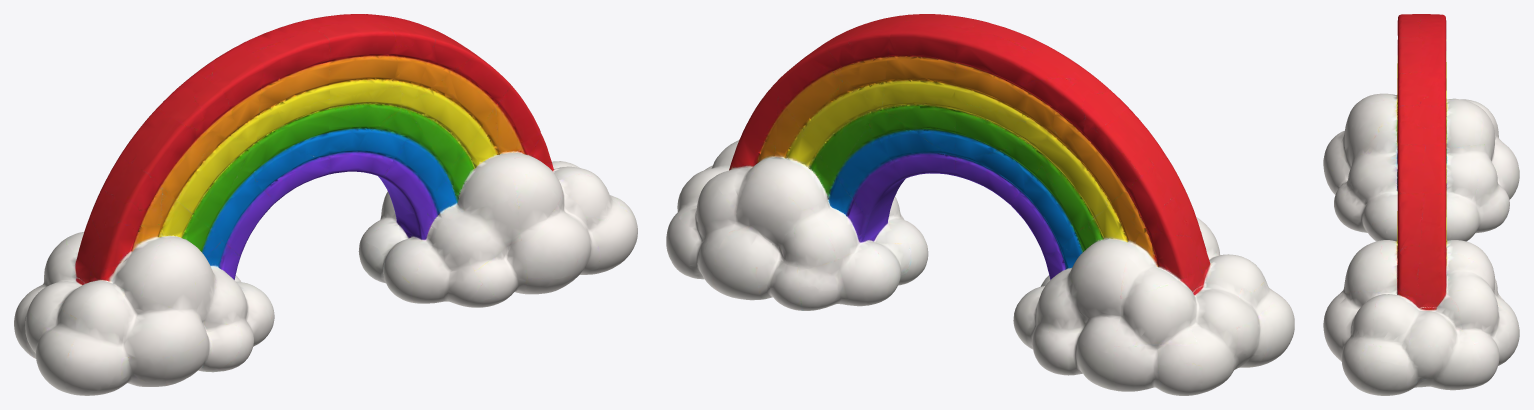
3 views of the same model, side by side, from view 1: azimuth 30°, elevation 25°; view 2: azimuth 150°, elevation 25°; view 3: azimuth 270°, elevation 25° (orthographic). The views are drawn at different scales.
Bounding box in the file's own units: 1.9 × 0.8637 × 0.6312.
1 material, 1 textured.
